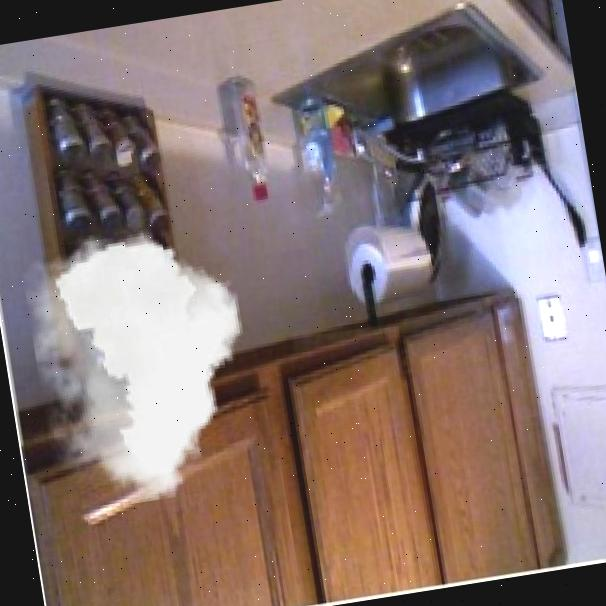smoke: (18, 213, 267, 515)
